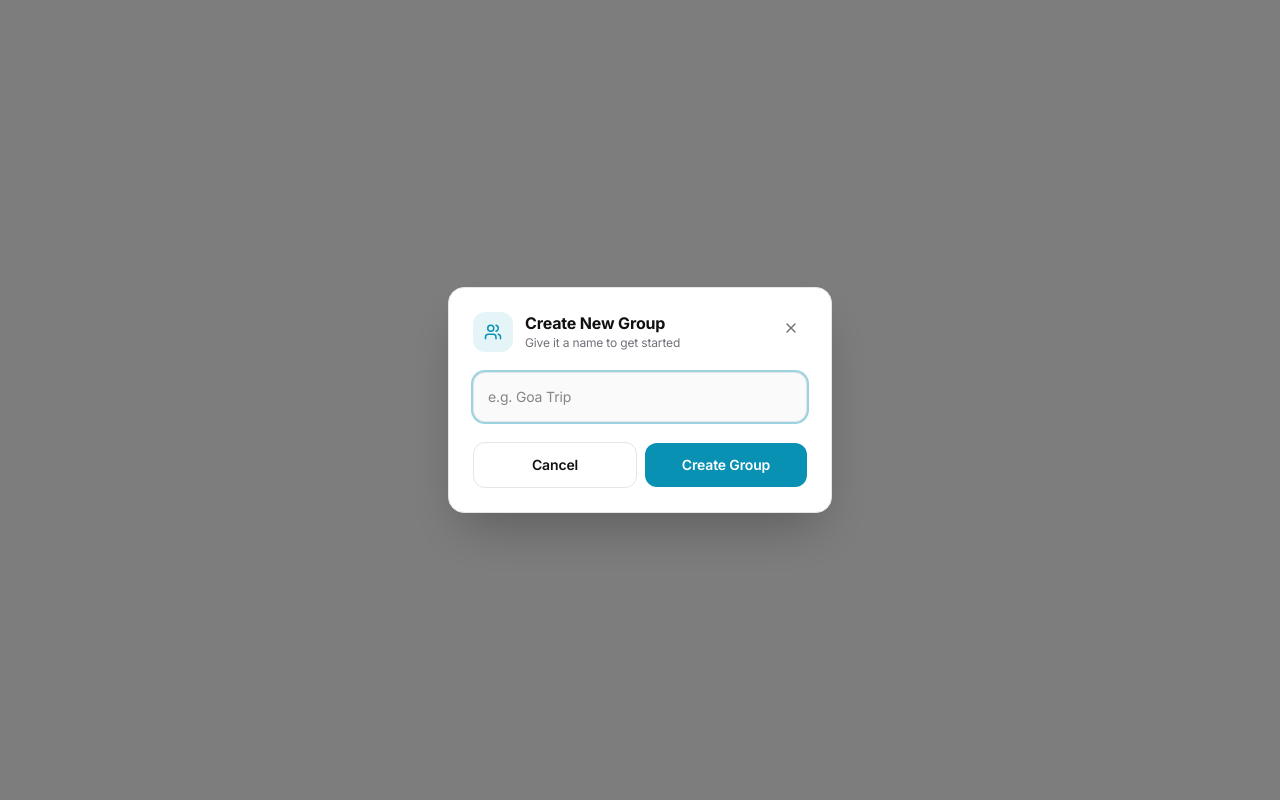
Test case: CreateGroupModal › surfaces a field-specific error from the API under the name input
Type "Duplicate" into the field with placeholder "e.g. Goa Trip".
click(640, 397); type("Duplicate")  # box [473, 372, 807, 422]
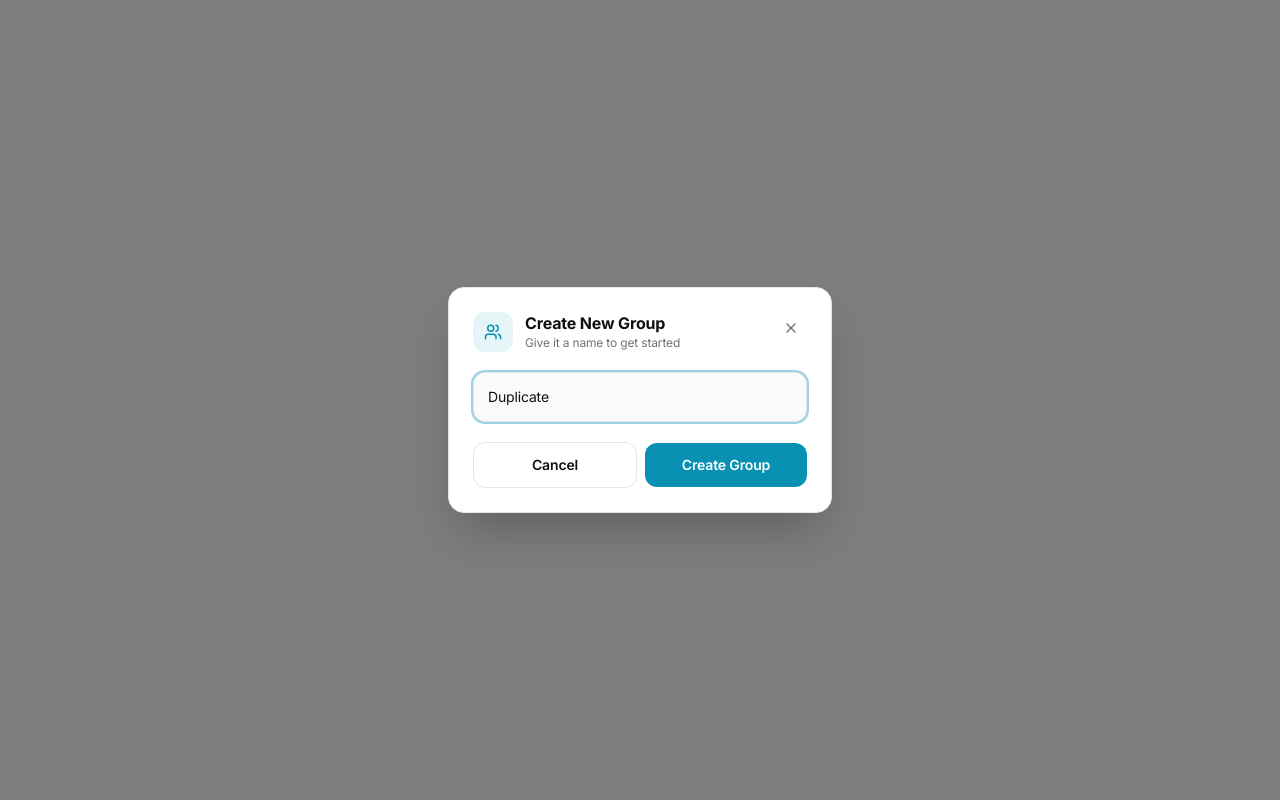
Click the button "Create Group".
click(726, 465)  # box [645, 443, 807, 487]
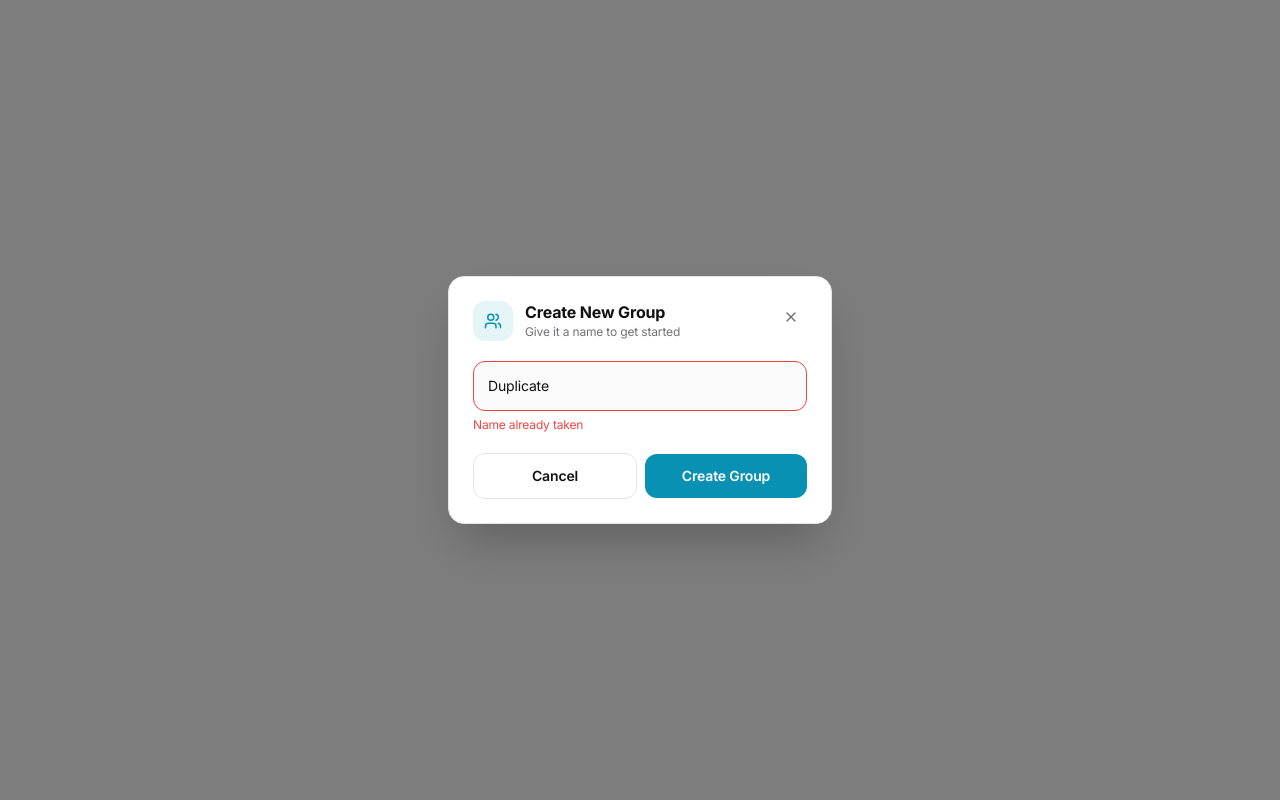
Result: the text "Name already taken" is shown at [473, 417, 583, 432]
